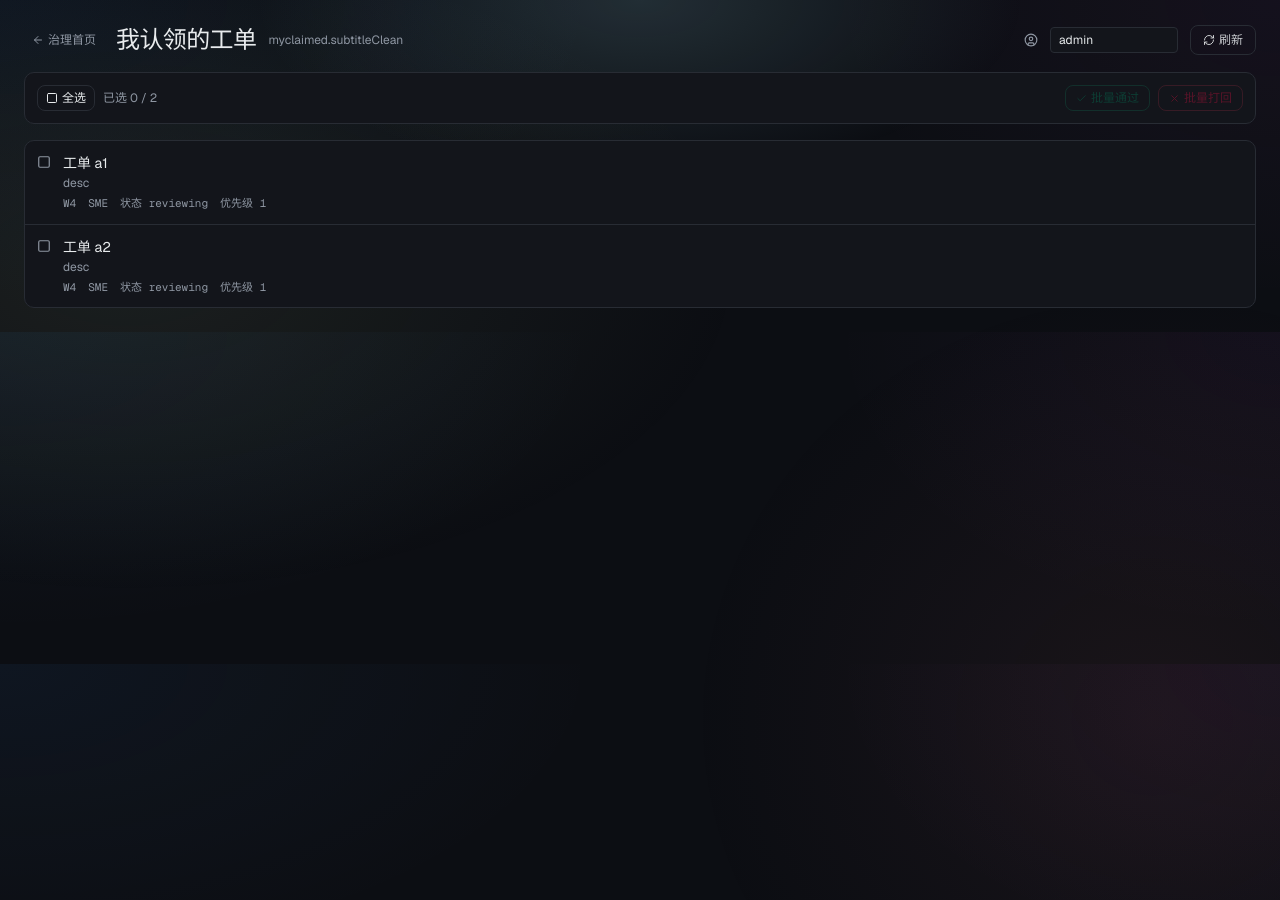
Test: MyClaimed › toggles select all
Expected: the text "工单 a1" is shown, [63,154,108,172]
Expected: the text "已选 0 / 2" is shown, [103,90,157,106]
Step 1. Click the button "全选" → point(66, 98), box [37,85,95,111]
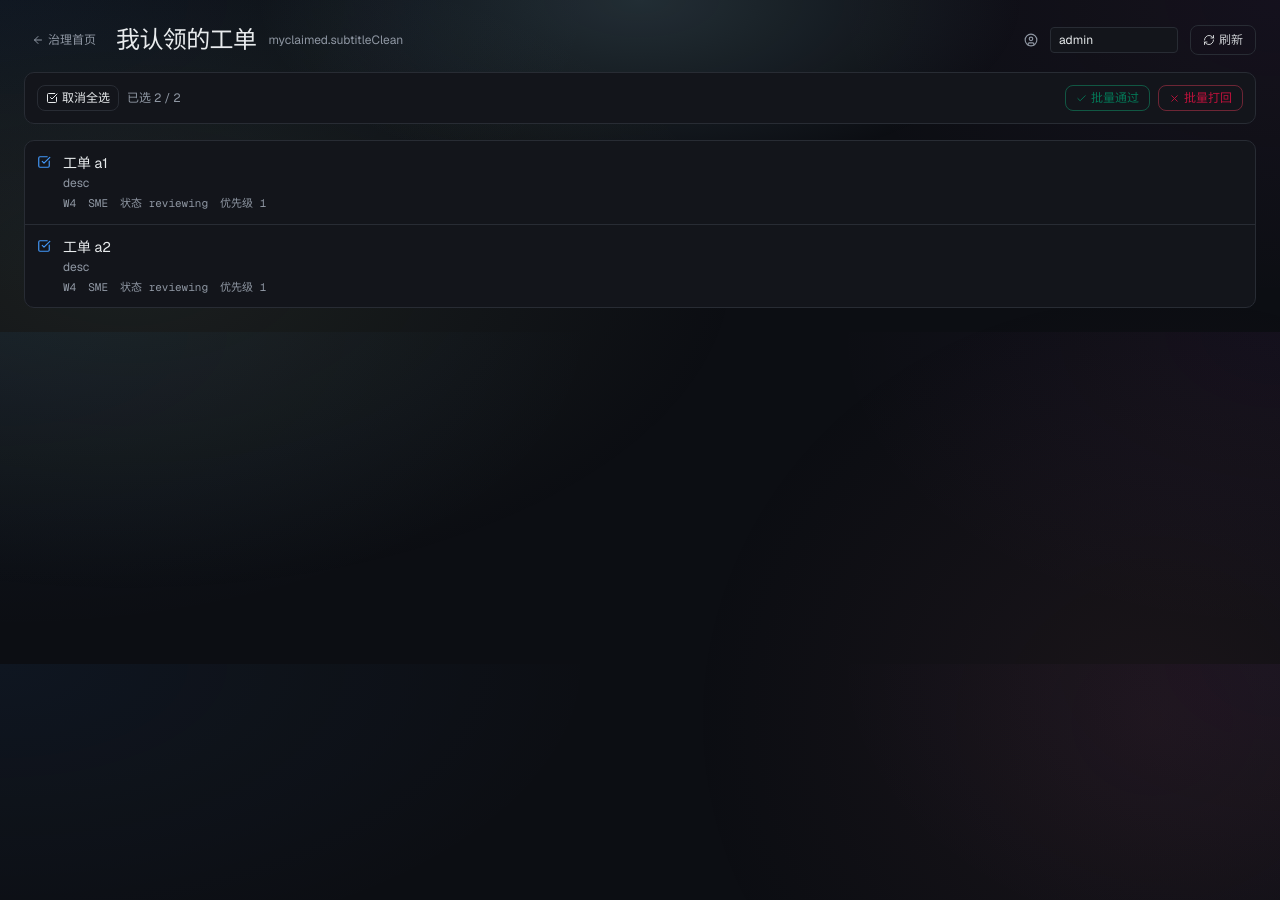
Result: the text "已选 2 / 2" is shown at [127,90,181,106]
